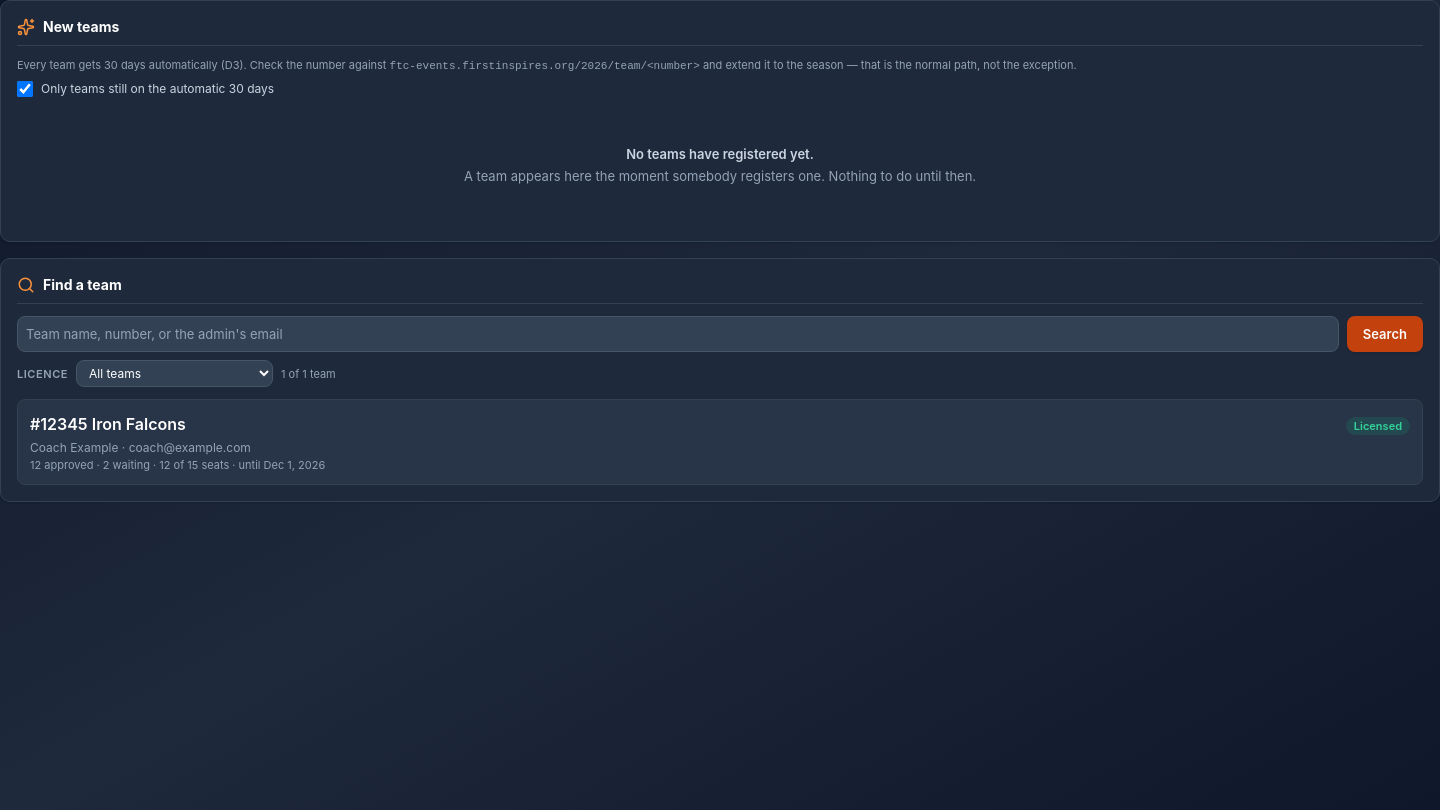
Test: SEC-11 — erasing a person from the console › shows the database's reason when an erasure is refused
Click the text "#12345 Iron Falcons": [108, 424] box [30, 412, 186, 436]
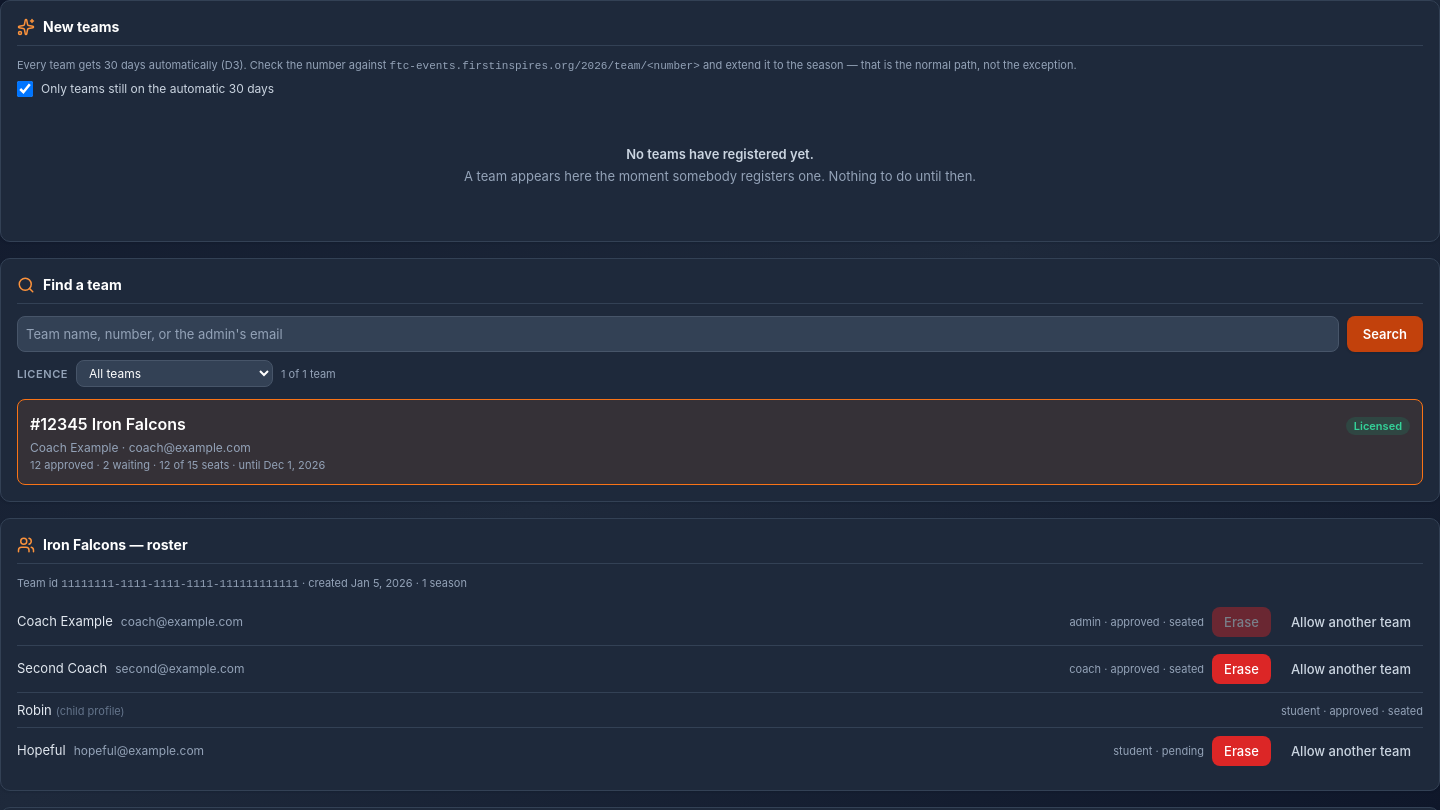
Check: the heading "Iron Falcons — roster" is shown, box [17, 535, 188, 555]
Click the button with test id "erase-user-m-coach": [1242, 669] box [1212, 654, 1271, 684]
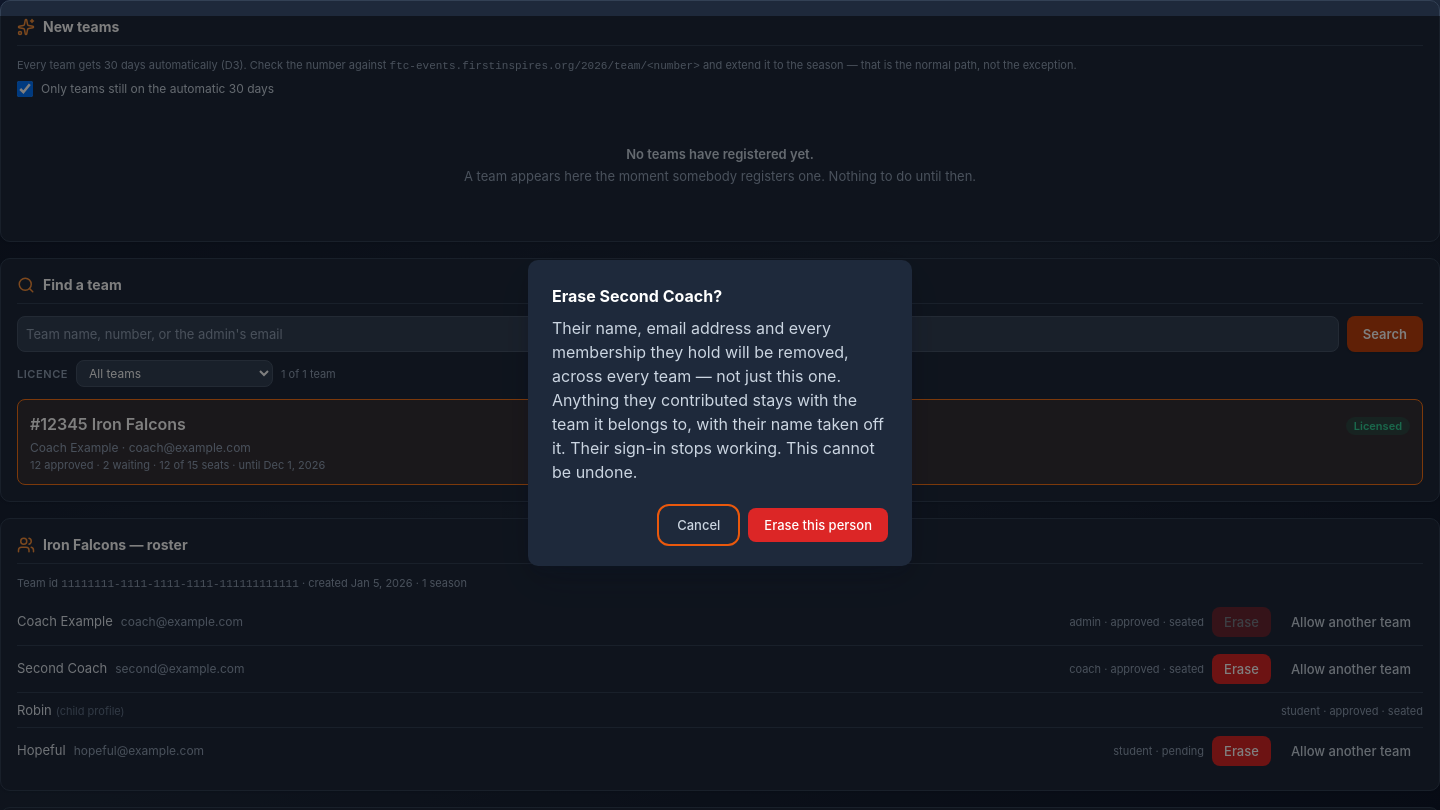
Click the button with test id "confirm-erase-user": [818, 525] box [748, 508, 888, 542]
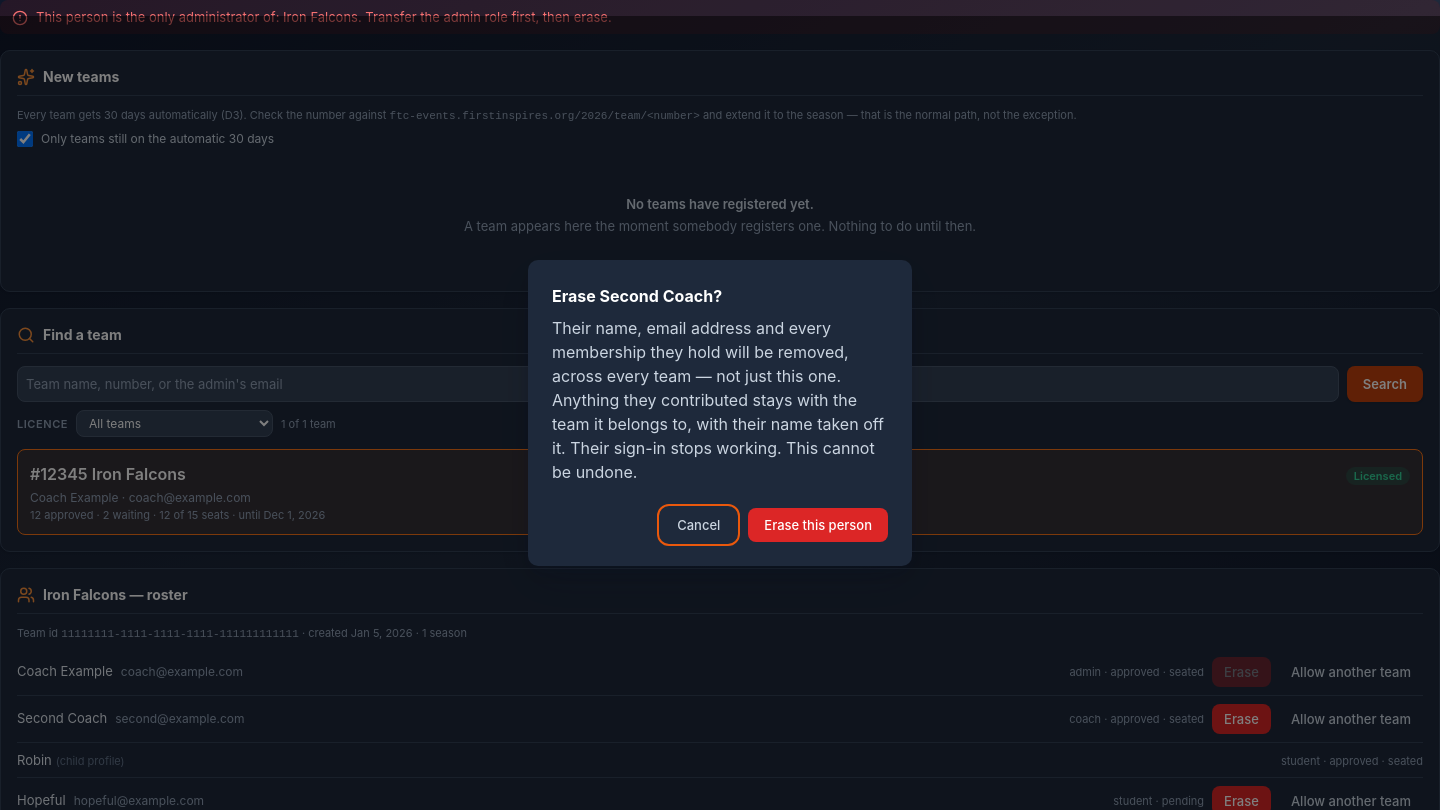
Check: the text "only administrator of: Iron Falcons" is shown, box [36, 9, 612, 25]
